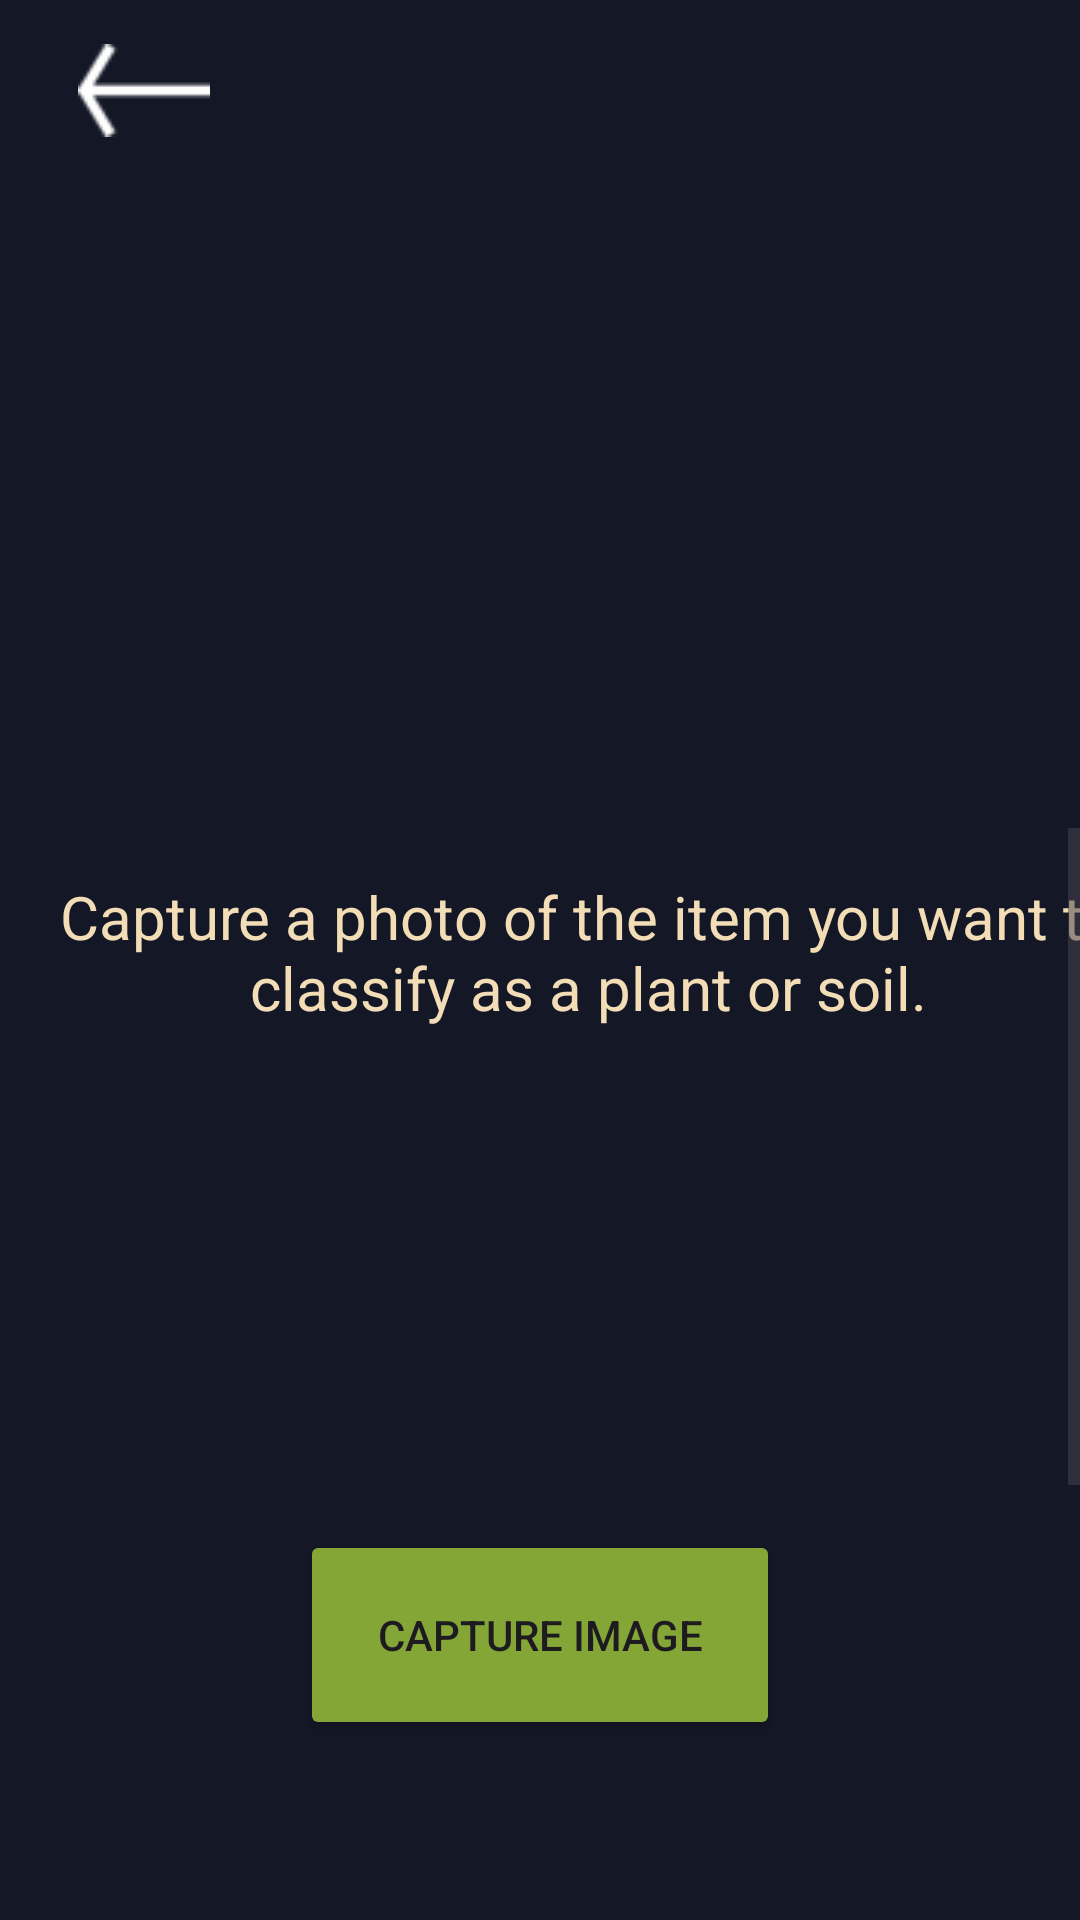

Where icons sit on this 1080w x 1920h app screen, as detection(x1, y1, x2, y2):
back button: detection(78, 44, 210, 137)
